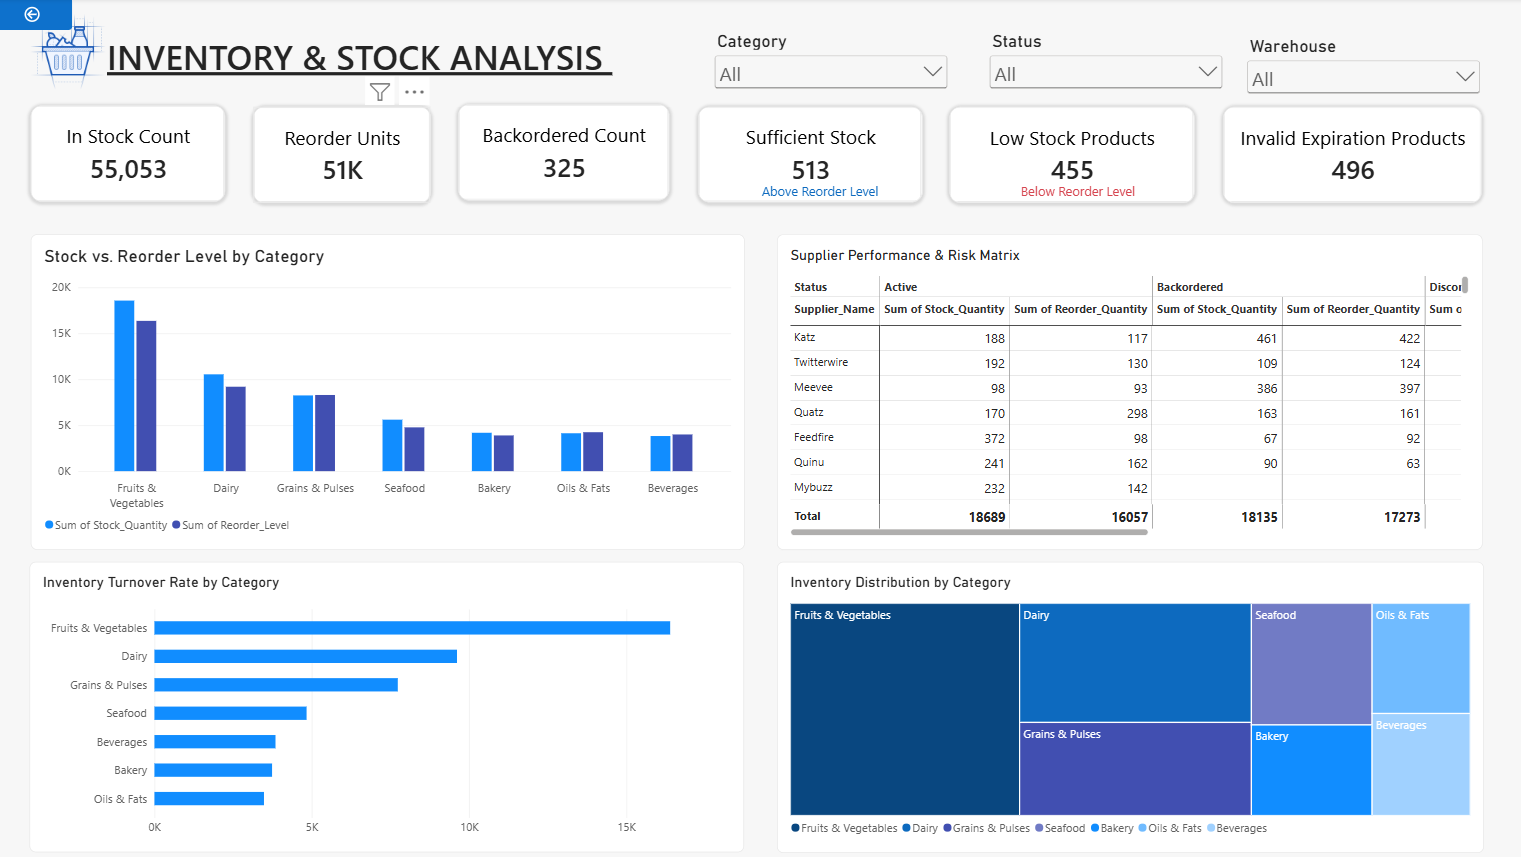

Layout of this report page (visuals, bound fields, positions):
{"tool":"powerbi","page":{"name":"Page 2","canvas":[1920,1080],"ordinal":1},"visuals":[{"type":"cardVisual","fields":{"Data":["Measures (2).Low Stock Products"]},"box":[1194.8,136,305.2,120.3],"z":0},{"type":"cardVisual","fields":{"Data":["Measures (2).Sufficient Stock"]},"box":[880.3,136,279.9,119.1],"z":1000},{"type":"cardVisual","fields":{"Data":["Sum(Grocery_Dataset.Stock_Quantity)"]},"box":[48.8,134.3,242.4,120.3],"z":2000},{"type":"image","box":[47.1,15.7,95.9,102.9],"z":3000},{"type":"textbox","box":[143,43.6,748.3,62.8],"z":4000},{"type":"slicer","fields":{"Values":["Grocery_Dataset.Category"]},"box":[896,40,300,80],"z":5000},{"type":"slicer","fields":{"Values":["Grocery_Dataset.Status"]},"box":[1240,40,300,80],"z":6000},{"type":"slicer","fields":{"Values":["Grocery_Dataset.Warehouse_Location"]},"box":[1560,46,300,88],"z":7000},{"type":"cardVisual","fields":{"Data":["Measures (2).Reorder Units"]},"box":[326,136,221.5,120.3],"z":8000},{"type":"cardVisual","fields":{"Data":["Measures (2).Backordered Count"]},"box":[582.2,132.6,263.4,120.3],"z":9000},{"type":"clusteredColumnChart","title":"Stock vs. Reorder Level by Category","fields":{"Category":["Grocery_Dataset.Category"],"Y":["Sum(Grocery_Dataset.Stock_Quantity)","Sum(Grocery_Dataset.Reorder_Level)"]},"box":[47.6,294.5,890.5,393.2],"z":10000},{"type":"pivotTable","title":"Supplier Performance & Risk Matrix","fields":{"Columns":["Grocery_Dataset.Status"],"Rows":["Grocery_Dataset.Supplier_Name"],"Values":["Sum(Grocery_Dataset.Stock_Quantity)","Sum(Grocery_Dataset.Reorder_Quantity)"]},"box":[978.7,294.5,879.9,393.2],"z":11000},{"type":"cardVisual","fields":{"Data":["Measures (2).Invalid Expiration Products"]},"box":[1534.9,136,322.7,120.3],"z":12000},{"type":"treemap","title":"Inventory Distribution by Category","fields":{"Group":["Grocery_Dataset.Category"],"Values":["Sum(Grocery_Dataset.Stock_Quantity)"]},"box":[978.7,703.6,881.7,363.3],"z":13000},{"type":"clusteredBarChart","title":"Inventory Turnover Rate by Category","fields":{"Category":["Grocery_Dataset.Category"],"Y":["Sum(Grocery_Dataset.Inventory_Turnover_Rate)"]},"box":[47.1,702.9,891.3,362.8],"z":14000},{"type":"actionButton","box":[0,0,100,40],"z":15000},{"type":"textbox","box":[1283.7,228.5,151.7,27.9],"z":16000},{"type":"textbox","box":[938.4,228.5,188.4,24.4],"z":17000}]}

Visuals, with their boxes in screenshot pixels (x1, y1, x2, y2), scaled from the page's 1920x1080 canvas onto the 1521x857 screenshot:
cardVisual - Measures (2).Low Stock Products: x1=947, y1=108, x2=1188, y2=203
cardVisual - Measures (2).Sufficient Stock: x1=697, y1=108, x2=919, y2=202
cardVisual - Sum(Grocery_Dataset.Stock_Quantity): x1=39, y1=107, x2=231, y2=202
image: x1=37, y1=12, x2=113, y2=94
textbox: x1=113, y1=35, x2=706, y2=84
slicer - Grocery_Dataset.Category: x1=710, y1=32, x2=947, y2=95
slicer - Grocery_Dataset.Status: x1=982, y1=32, x2=1220, y2=95
slicer - Grocery_Dataset.Warehouse_Location: x1=1236, y1=37, x2=1473, y2=106
cardVisual - Measures (2).Reorder Units: x1=258, y1=108, x2=434, y2=203
cardVisual - Measures (2).Backordered Count: x1=461, y1=105, x2=670, y2=201
"Stock vs. Reorder Level by Category" clusteredColumnChart: x1=38, y1=234, x2=743, y2=546
"Supplier Performance & Risk Matrix" pivotTable: x1=775, y1=234, x2=1472, y2=546
cardVisual - Measures (2).Invalid Expiration Products: x1=1216, y1=108, x2=1472, y2=203
"Inventory Distribution by Category" treemap: x1=775, y1=558, x2=1474, y2=847
"Inventory Turnover Rate by Category" clusteredBarChart: x1=37, y1=558, x2=743, y2=846
actionButton: x1=0, y1=0, x2=79, y2=32
textbox: x1=1017, y1=181, x2=1137, y2=203
textbox: x1=743, y1=181, x2=893, y2=201
